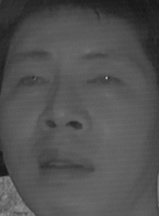eye: (15, 70, 49, 94), (87, 70, 120, 91)
mouth: (34, 146, 93, 182)
